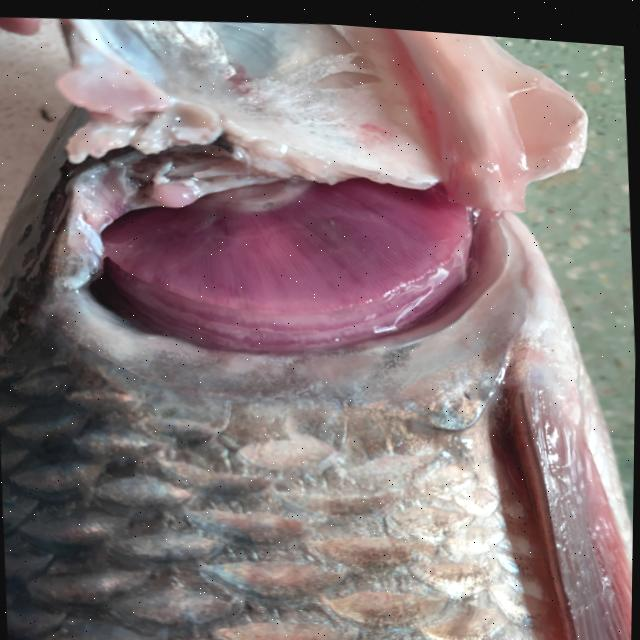Fresh: (14, 91, 539, 386)
